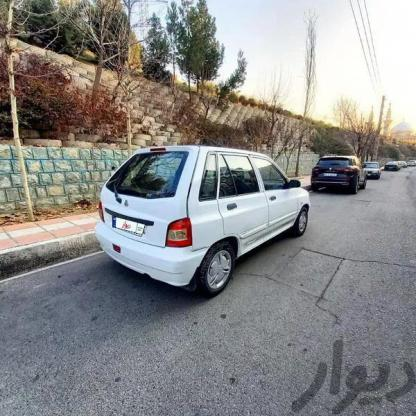Car: (93, 143, 314, 322), (307, 151, 363, 203), (358, 164, 383, 183), (382, 162, 402, 170), (405, 158, 416, 166)
